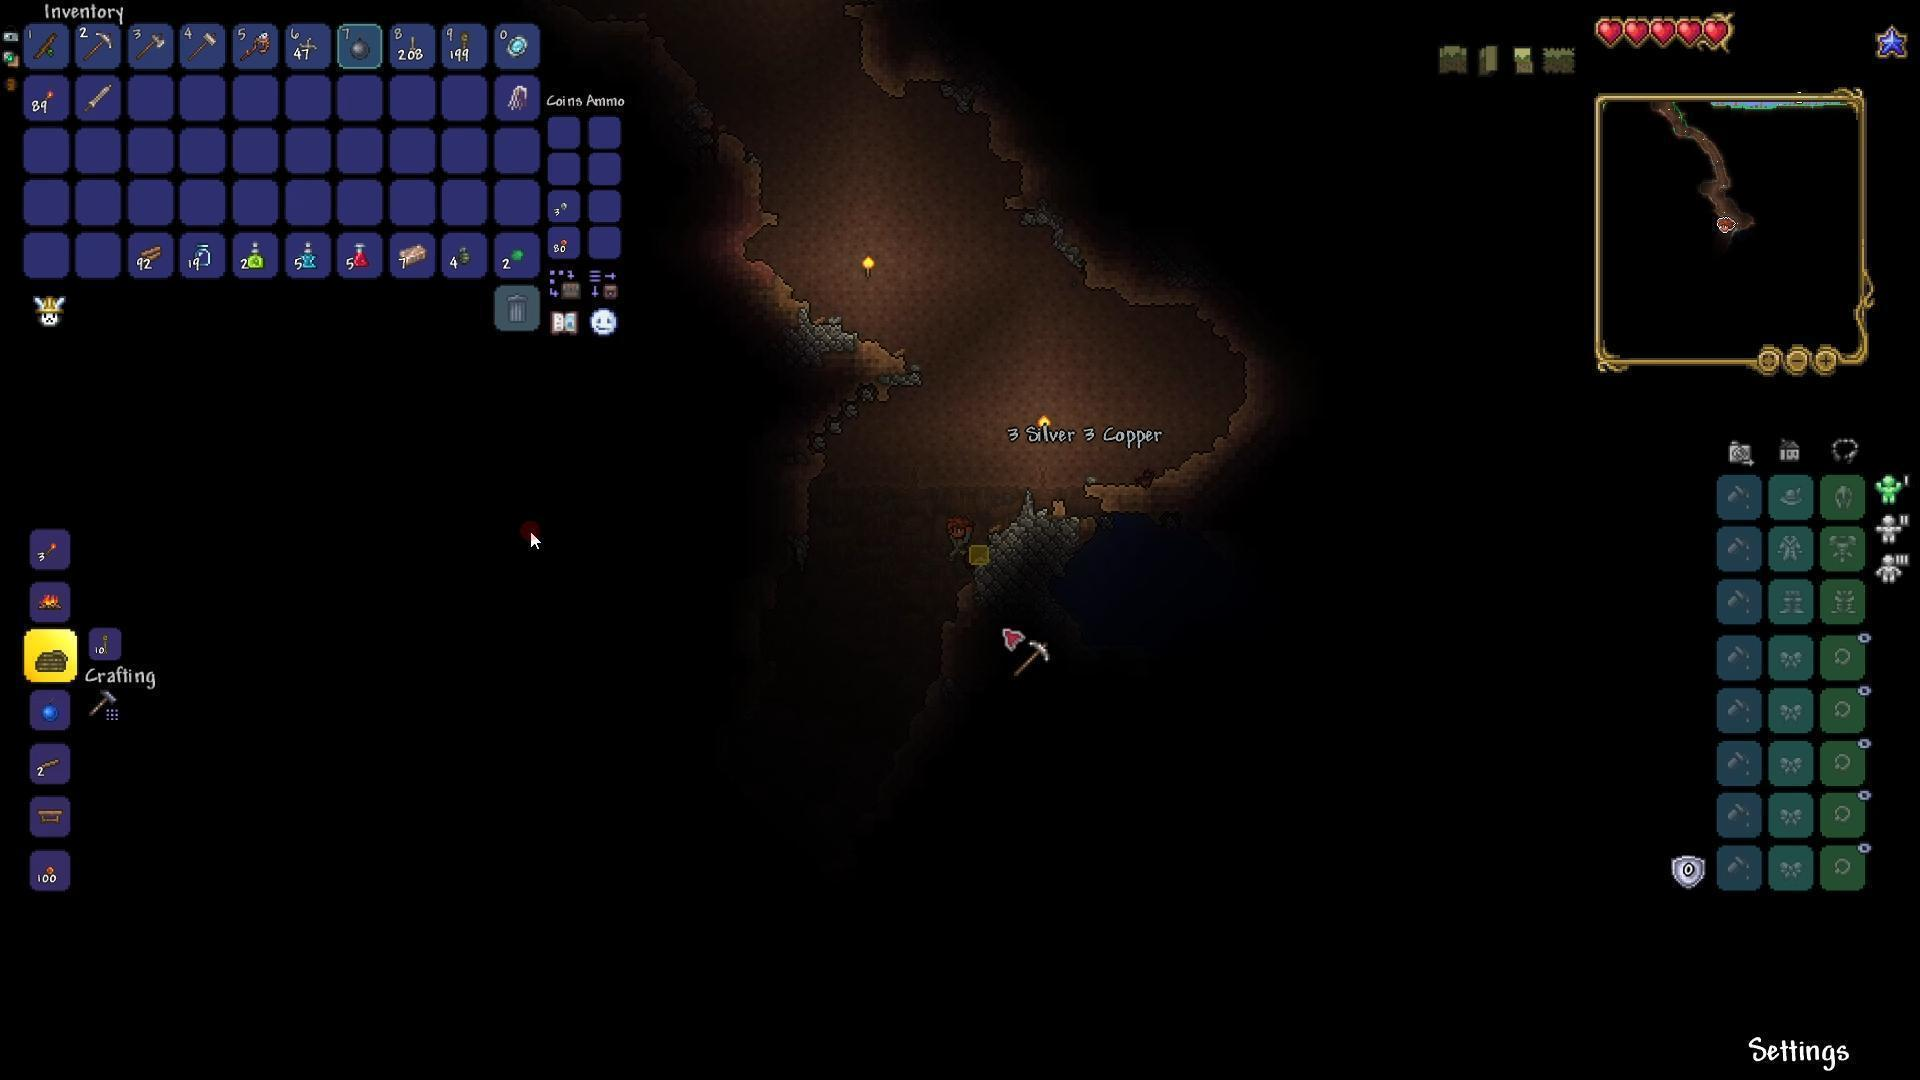axe: (135, 33, 165, 62)
bomb: (349, 37, 375, 61)
workbench: (36, 803, 65, 823)
